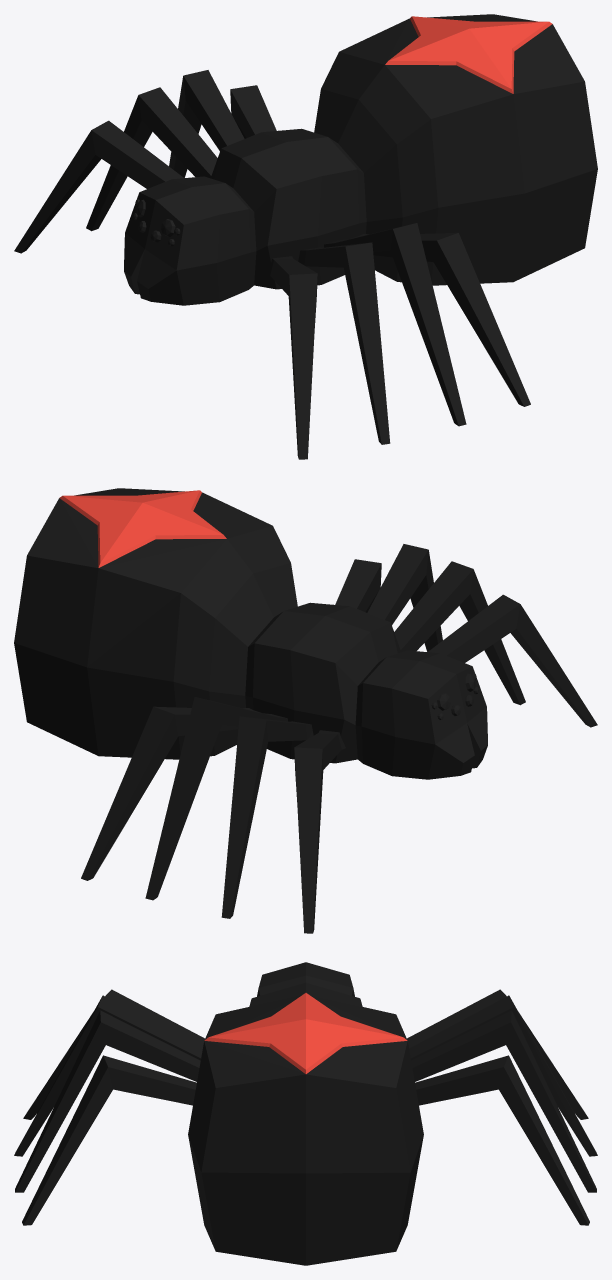
The model's file is spider.glb.
3 renders of one model, top to bottom at view 1: azimuth 30°, elevation 25°; view 2: azimuth 150°, elevation 25°; view 3: azimuth 270°, elevation 25°, orthographic.
Visible parts, largest first — view 1: node-0; view 2: node-0; view 3: node-0.
Part boxes in pixels (x1,y1,x2,y2): node-0: [14, 14, 597, 459]; node-0: [14, 488, 597, 933]; node-0: [14, 962, 597, 1265].
Size of the model in its own units: 1.05 by 0.5868 by 1.26.
